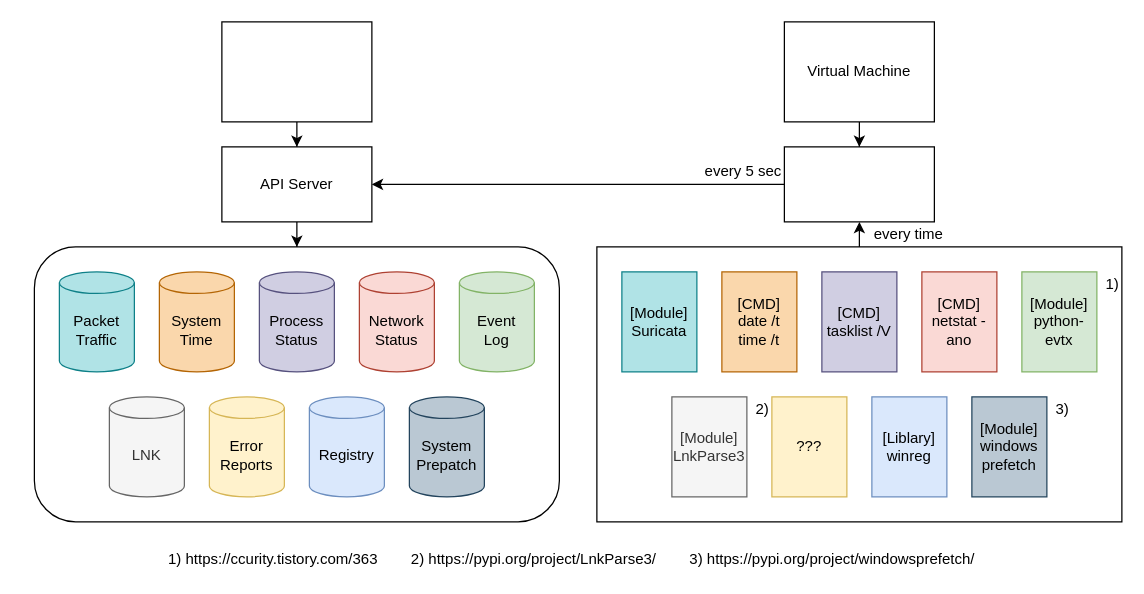
Image size: 1144x594. Some labels were removed from this diagram. The centre of each missing label's shape, as x and y in pixels:
"HostPC" belongs at (x=296, y=71).
"Logging Module (Python)" belongs at (x=858, y=184).
